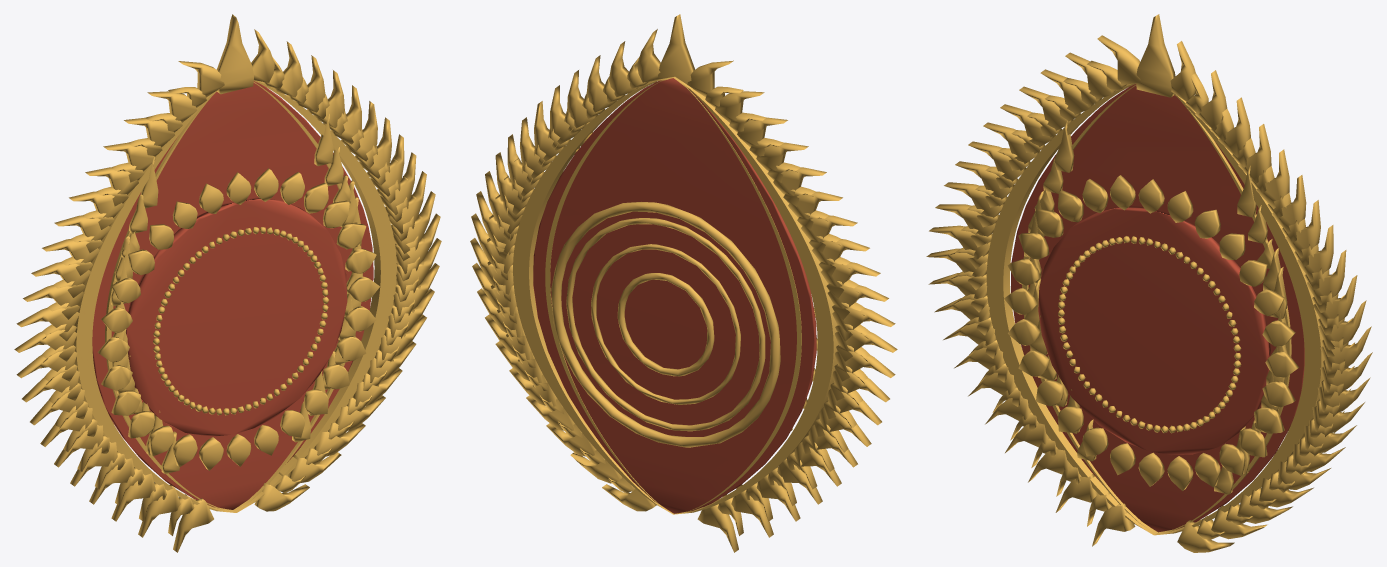
File: lotstatue__lot_temple_hall_buddha_halo_phone.glb
3 views of the same model, side by side, from view 1: azimuth 30°, elevation 25°; view 2: azimuth 150°, elevation 25°; view 3: azimuth 330°, elevation 25° (orthographic). The views are drawn at different scales.
Parts seen in each view (by area): view 1: lotstatue__lot_temple_hall_buddha_halo_phone; view 2: lotstatue__lot_temple_hall_buddha_halo_phone; view 3: lotstatue__lot_temple_hall_buddha_halo_phone.
Boxes of the visible parts, left/top/right/bottom form: lotstatue__lot_temple_hall_buddha_halo_phone: left=14, top=14, right=441, bottom=552; lotstatue__lot_temple_hall_buddha_halo_phone: left=470, top=14, right=897, bottom=552; lotstatue__lot_temple_hall_buddha_halo_phone: left=926, top=14, right=1372, bottom=552.
Bounding box in the file's own units: 1.93 × 2.27 × 0.1766.
